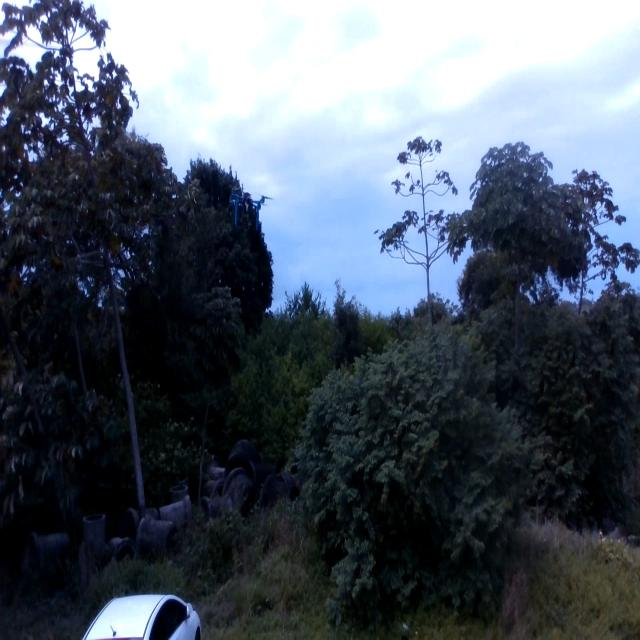-uav-: (220, 177, 279, 233)
